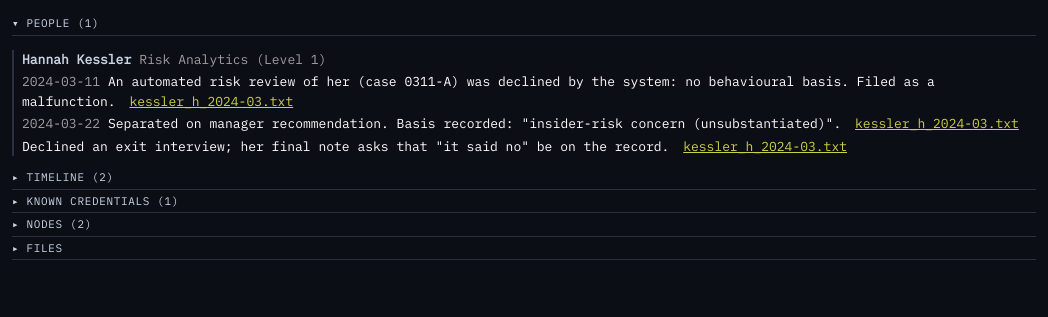
Scenario: CasePane — a credential found in a document › shows the password but no access level until it has been used
The image size is (1048, 317).
Click the button "▸ KNOWN CREDENTIALS (1)" at (99, 200), box [12,190,1036,213]
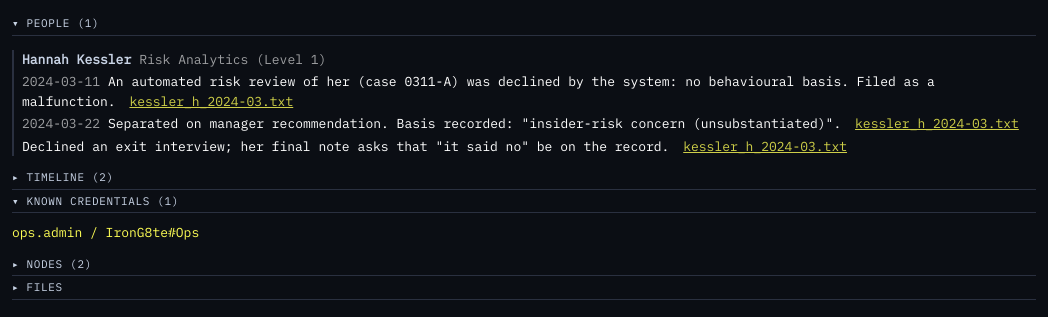
Expected: the text with test id "case-account-ops.admin" shows "ops.admin", [12,224,199,241]
Expected: the text with test id "case-account-ops.admin" shows "IronG8te#Ops", [12,224,199,241]
